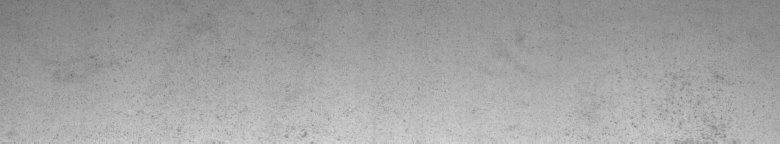ib: (631, 74, 725, 136)
